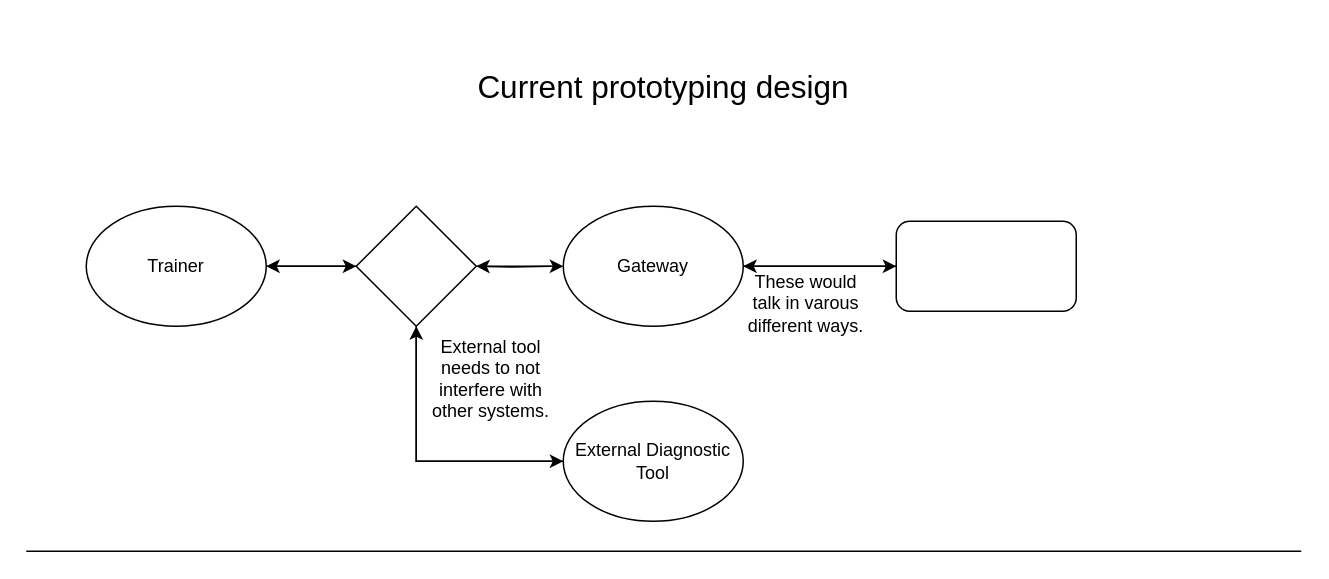
The diagram is 1329 pixels wide and 579 high, and some of its shapes have lost their labels. Here are the shapes that lost their labels. From the top down, the box of each, then its label:
(355, 205, 476, 326): CAN BUS
(895, 220, 1076, 311): Display (BT,Screen, ect..)
